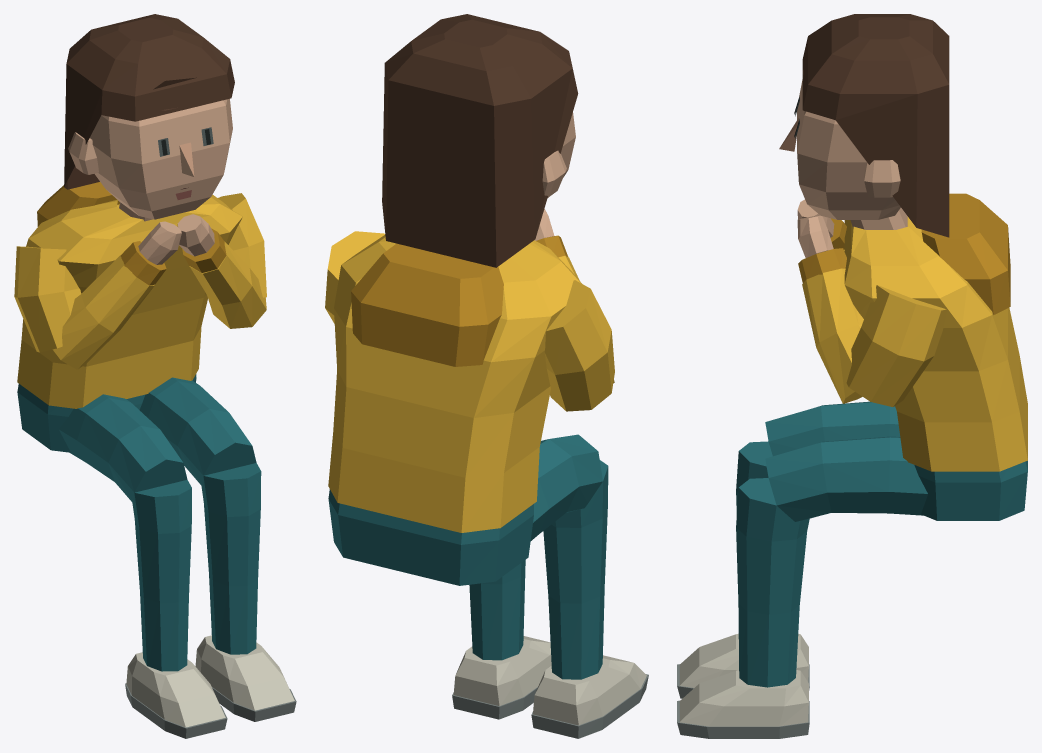
File: devochka.glb
3 renders of one model, left to right at view 1: azimuth 30°, elevation 25°; view 2: azimuth 150°, elevation 25°; view 3: azimuth 270°, elevation 25°, orthographic. The views are drawn at different scales.
Visible parts, largest first — view 1: Girl_5_6_Seated_Scared_Yellow; view 2: Girl_5_6_Seated_Scared_Yellow; view 3: Girl_5_6_Seated_Scared_Yellow.
Boxes of the visible parts, box(x1,y1,x2,y2) form: Girl_5_6_Seated_Scared_Yellow: box(14, 14, 296, 738); Girl_5_6_Seated_Scared_Yellow: box(325, 14, 648, 738); Girl_5_6_Seated_Scared_Yellow: box(677, 14, 1027, 738).
Bounding box in the file's own units: 0.3146 × 0.7757 × 0.3638.
1 material, 1 textured.
